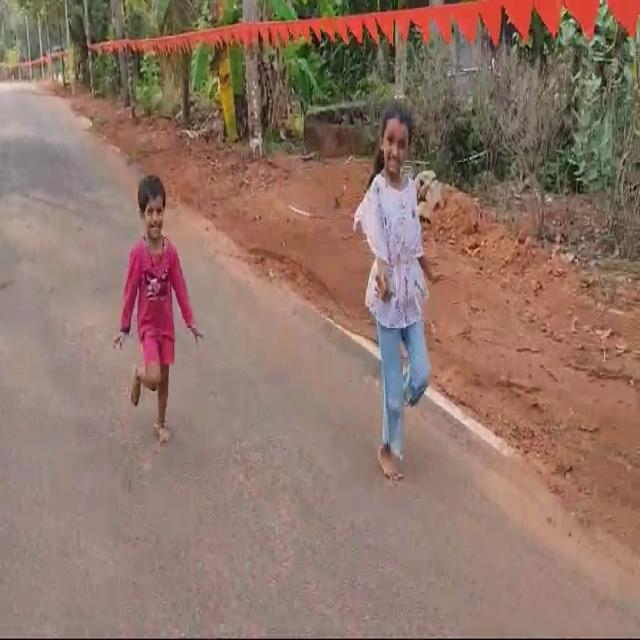child: (342, 65, 490, 513), (86, 172, 220, 506)
